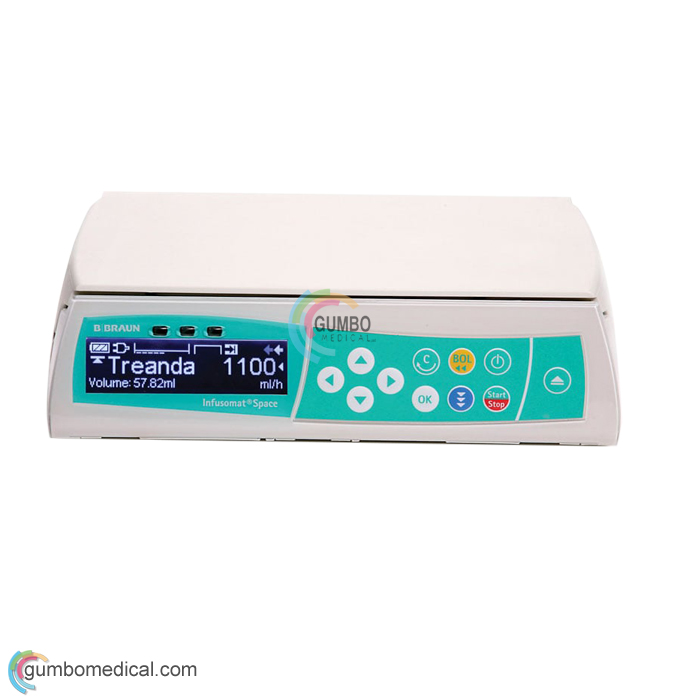BBraun Infusomat Space: (39, 182, 627, 458)
